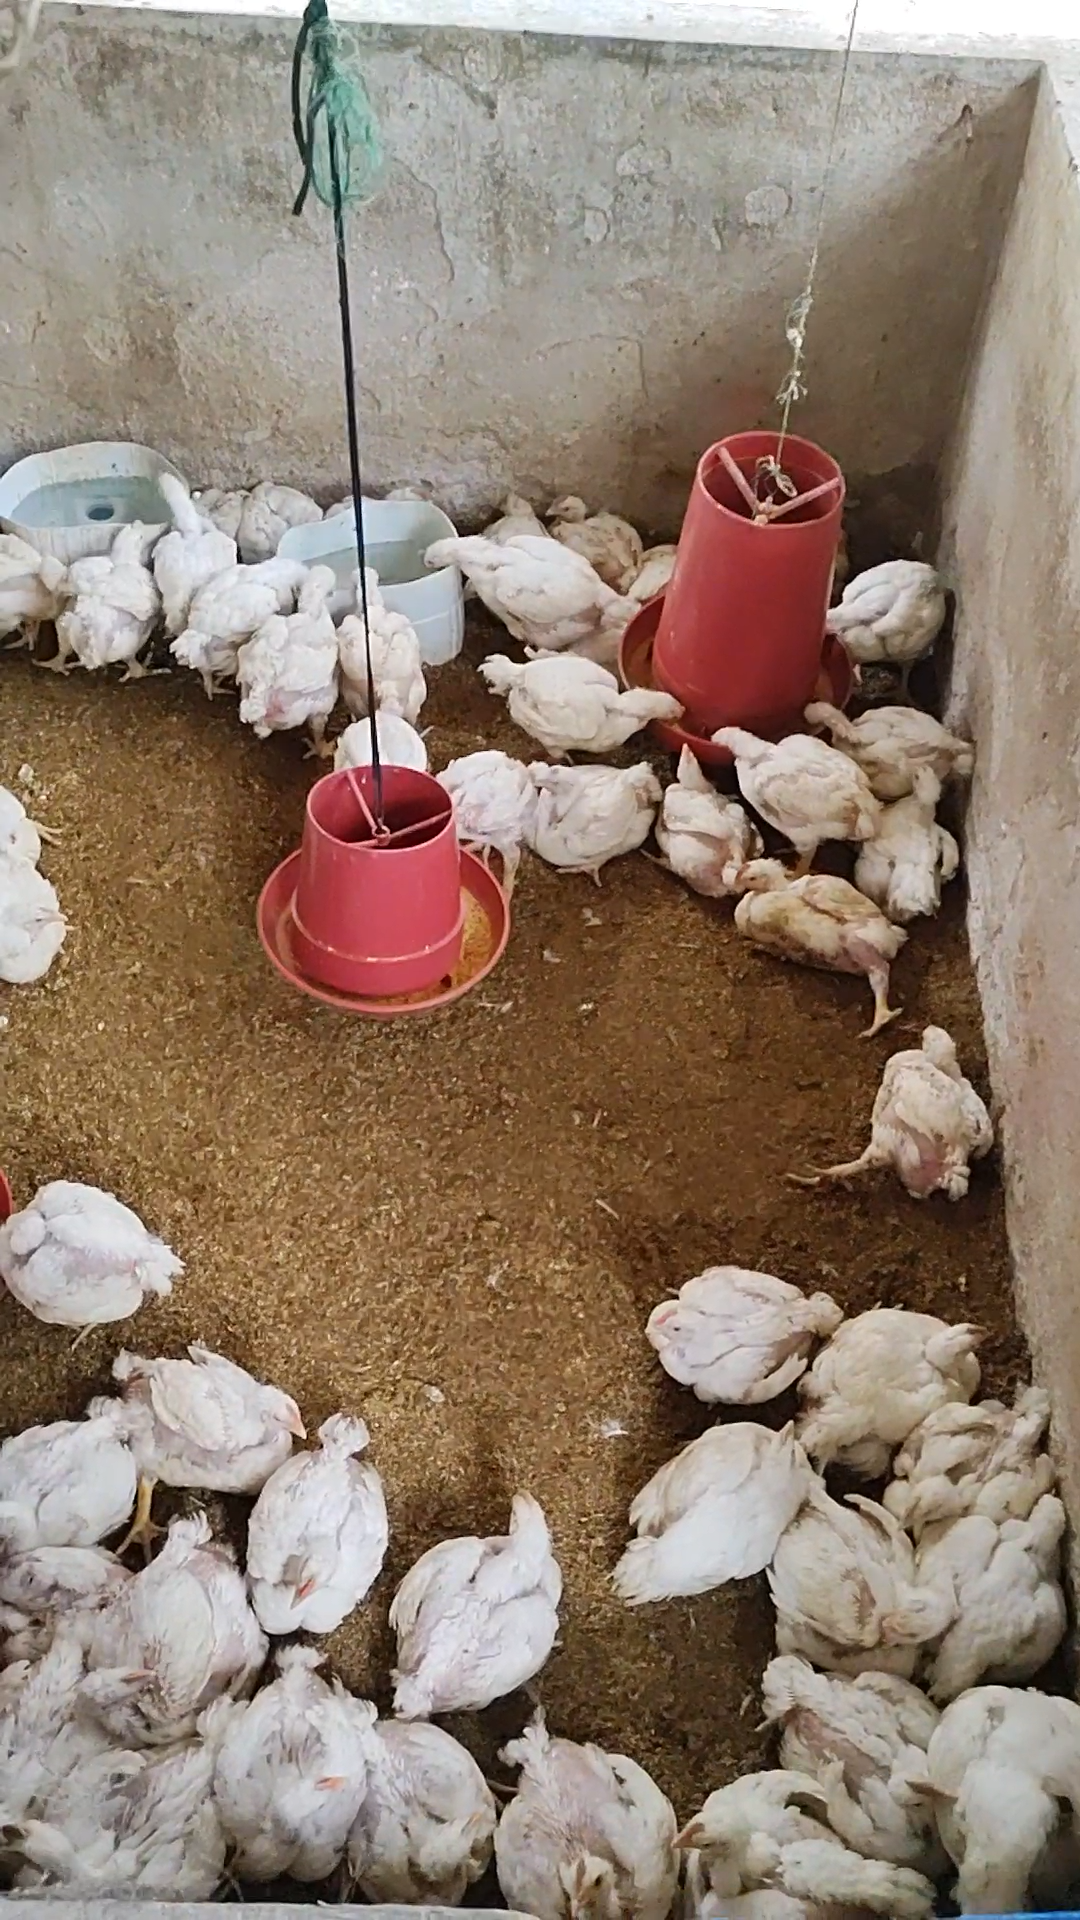Pollos: (82, 1501, 266, 1755), (476, 1700, 683, 1920), (386, 1480, 571, 1725), (654, 1760, 919, 1920), (210, 1639, 369, 1888), (612, 1415, 819, 1602), (891, 1481, 1071, 1691), (1, 1755, 245, 1905), (752, 1652, 938, 1841), (783, 1302, 993, 1468), (247, 1410, 397, 1635), (765, 1485, 953, 1662), (338, 1683, 496, 1892), (123, 1331, 313, 1501), (0, 1172, 190, 1342), (636, 1258, 836, 1414), (844, 1019, 1001, 1215), (715, 855, 902, 993), (712, 715, 884, 858), (0, 1389, 152, 1545), (481, 647, 683, 764), (415, 527, 632, 636), (233, 559, 347, 764), (178, 542, 313, 700), (44, 509, 165, 680), (794, 694, 982, 800), (516, 758, 667, 885), (852, 753, 972, 910), (811, 554, 957, 678), (654, 738, 764, 902), (436, 736, 534, 907), (338, 556, 429, 720), (144, 462, 235, 625), (535, 489, 644, 589)
